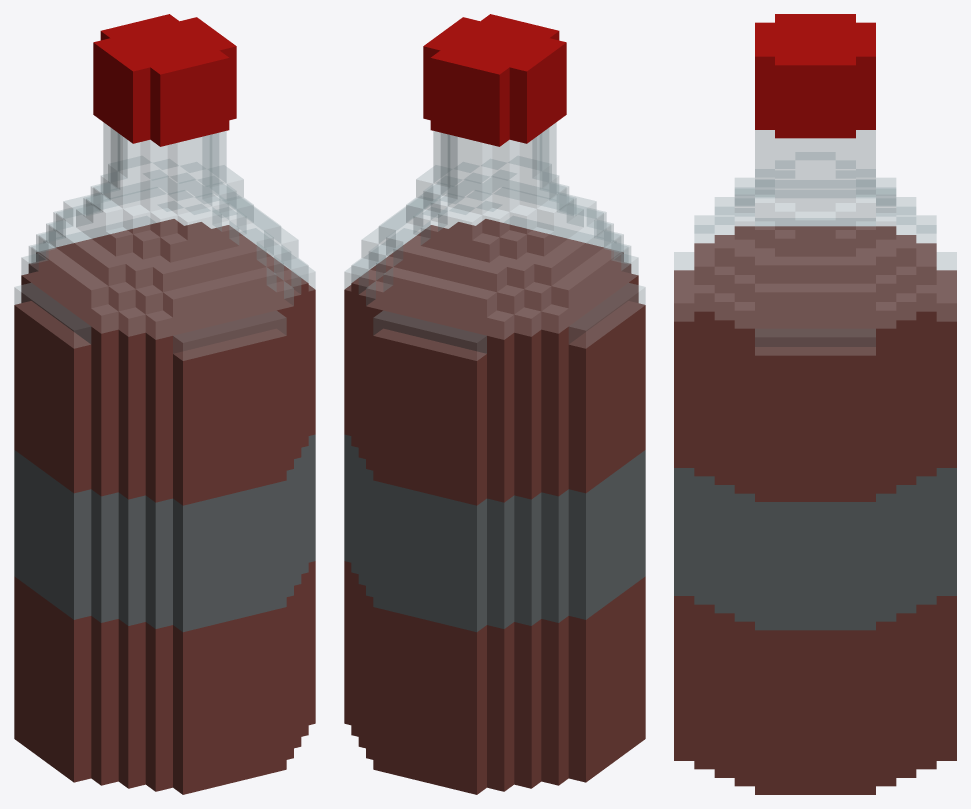
Rendered from methacola.glb.
The picture shows the model from 3 angles, left to right: view 1: azimuth 30°, elevation 25°; view 2: azimuth 150°, elevation 25°; view 3: azimuth 270°, elevation 25°; orthographic projection.
Visible parts, largest first — view 1: methacola:compound; view 2: methacola:compound; view 3: methacola:compound.
Boxes of the visible parts, left/top/right/bottom form: methacola:compound: left=14, top=14, right=315, bottom=794; methacola:compound: left=344, top=14, right=645, bottom=794; methacola:compound: left=674, top=14, right=956, bottom=794.
Size of the model in its own units: 0.056 by 0.152 by 0.056.
